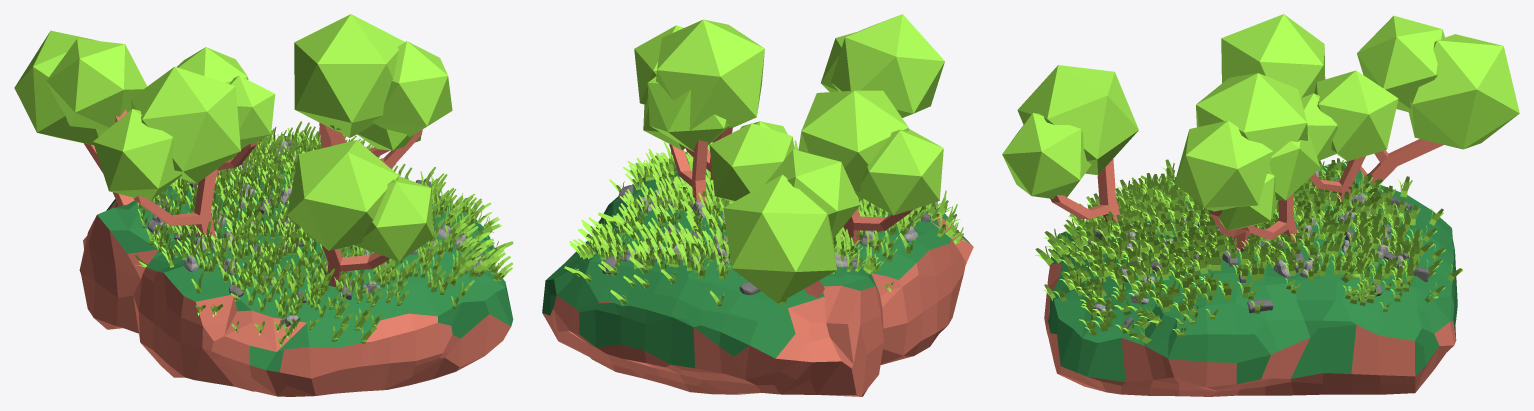
The model's file is Island 1.fbx.
The picture shows the model from 3 angles, left to right: view 1: azimuth 30°, elevation 25°; view 2: azimuth 150°, elevation 25°; view 3: azimuth 270°, elevation 25°; orthographic projection.
Visible parts, largest first — view 1: Cube, Cube|Tree 1|Dupli|5.1, Cube|Tree 1|Dupli|4.1, Cube|Tree 1|Dupli|0.1, Cube|Tree 1|Dupli|2.1, Cube|Tree 1|Dupli|1.1, Cube|Tree 1|Dupli|3.1; view 2: Cube, Cube|Tree 1|Dupli|2.1, Cube|Tree 1|Dupli|4.1, Cube|Tree 1|Dupli|5.1, Cube|Tree 1|Dupli|0.1, Cube|Tree 1|Dupli|1.1, Cube|Tree 1|Dupli|3.1; view 3: Cube, Cube|Tree 1|Dupli|2.1, Cube|Tree 1|Dupli|0.1, Cube|Tree 1|Dupli|5.1, Cube|Tree 1|Dupli|1.1, Cube|Tree 1|Dupli|4.1, Cube|Tree 1|Dupli|3.1.
Boxes of the visible parts, bbox=[...] form: Cube: bbox=[79, 144, 513, 396]; Cube|Tree 1|Dupli|5.1: bbox=[294, 14, 452, 168]; Cube|Tree 1|Dupli|4.1: bbox=[93, 66, 240, 242]; Cube|Tree 1|Dupli|0.1: bbox=[287, 140, 433, 287]; Cube|Tree 1|Dupli|2.1: bbox=[14, 30, 147, 206]; Cube|Tree 1|Dupli|1.1: bbox=[177, 47, 275, 177]; Cube|Tree 1|Dupli|3.1: bbox=[319, 122, 421, 156]; Cube: bbox=[542, 166, 973, 396]; Cube|Tree 1|Dupli|2.1: bbox=[723, 149, 860, 303]; Cube|Tree 1|Dupli|4.1: bbox=[798, 90, 943, 245]; Cube|Tree 1|Dupli|5.1: bbox=[634, 19, 764, 179]; Cube|Tree 1|Dupli|0.1: bbox=[821, 14, 944, 117]; Cube|Tree 1|Dupli|1.1: bbox=[709, 121, 794, 202]; Cube|Tree 1|Dupli|3.1: bbox=[643, 76, 730, 204]; Cube: bbox=[1044, 161, 1457, 396]; Cube|Tree 1|Dupli|2.1: bbox=[1357, 15, 1519, 183]; Cube|Tree 1|Dupli|0.1: bbox=[1002, 65, 1138, 223]; Cube|Tree 1|Dupli|5.1: bbox=[1174, 73, 1307, 251]; Cube|Tree 1|Dupli|1.1: bbox=[1300, 70, 1398, 206]; Cube|Tree 1|Dupli|4.1: bbox=[1221, 14, 1325, 97]; Cube|Tree 1|Dupli|3.1: bbox=[1218, 130, 1320, 242].
Bounding box in the file's own units: 238 × 197 × 300.
